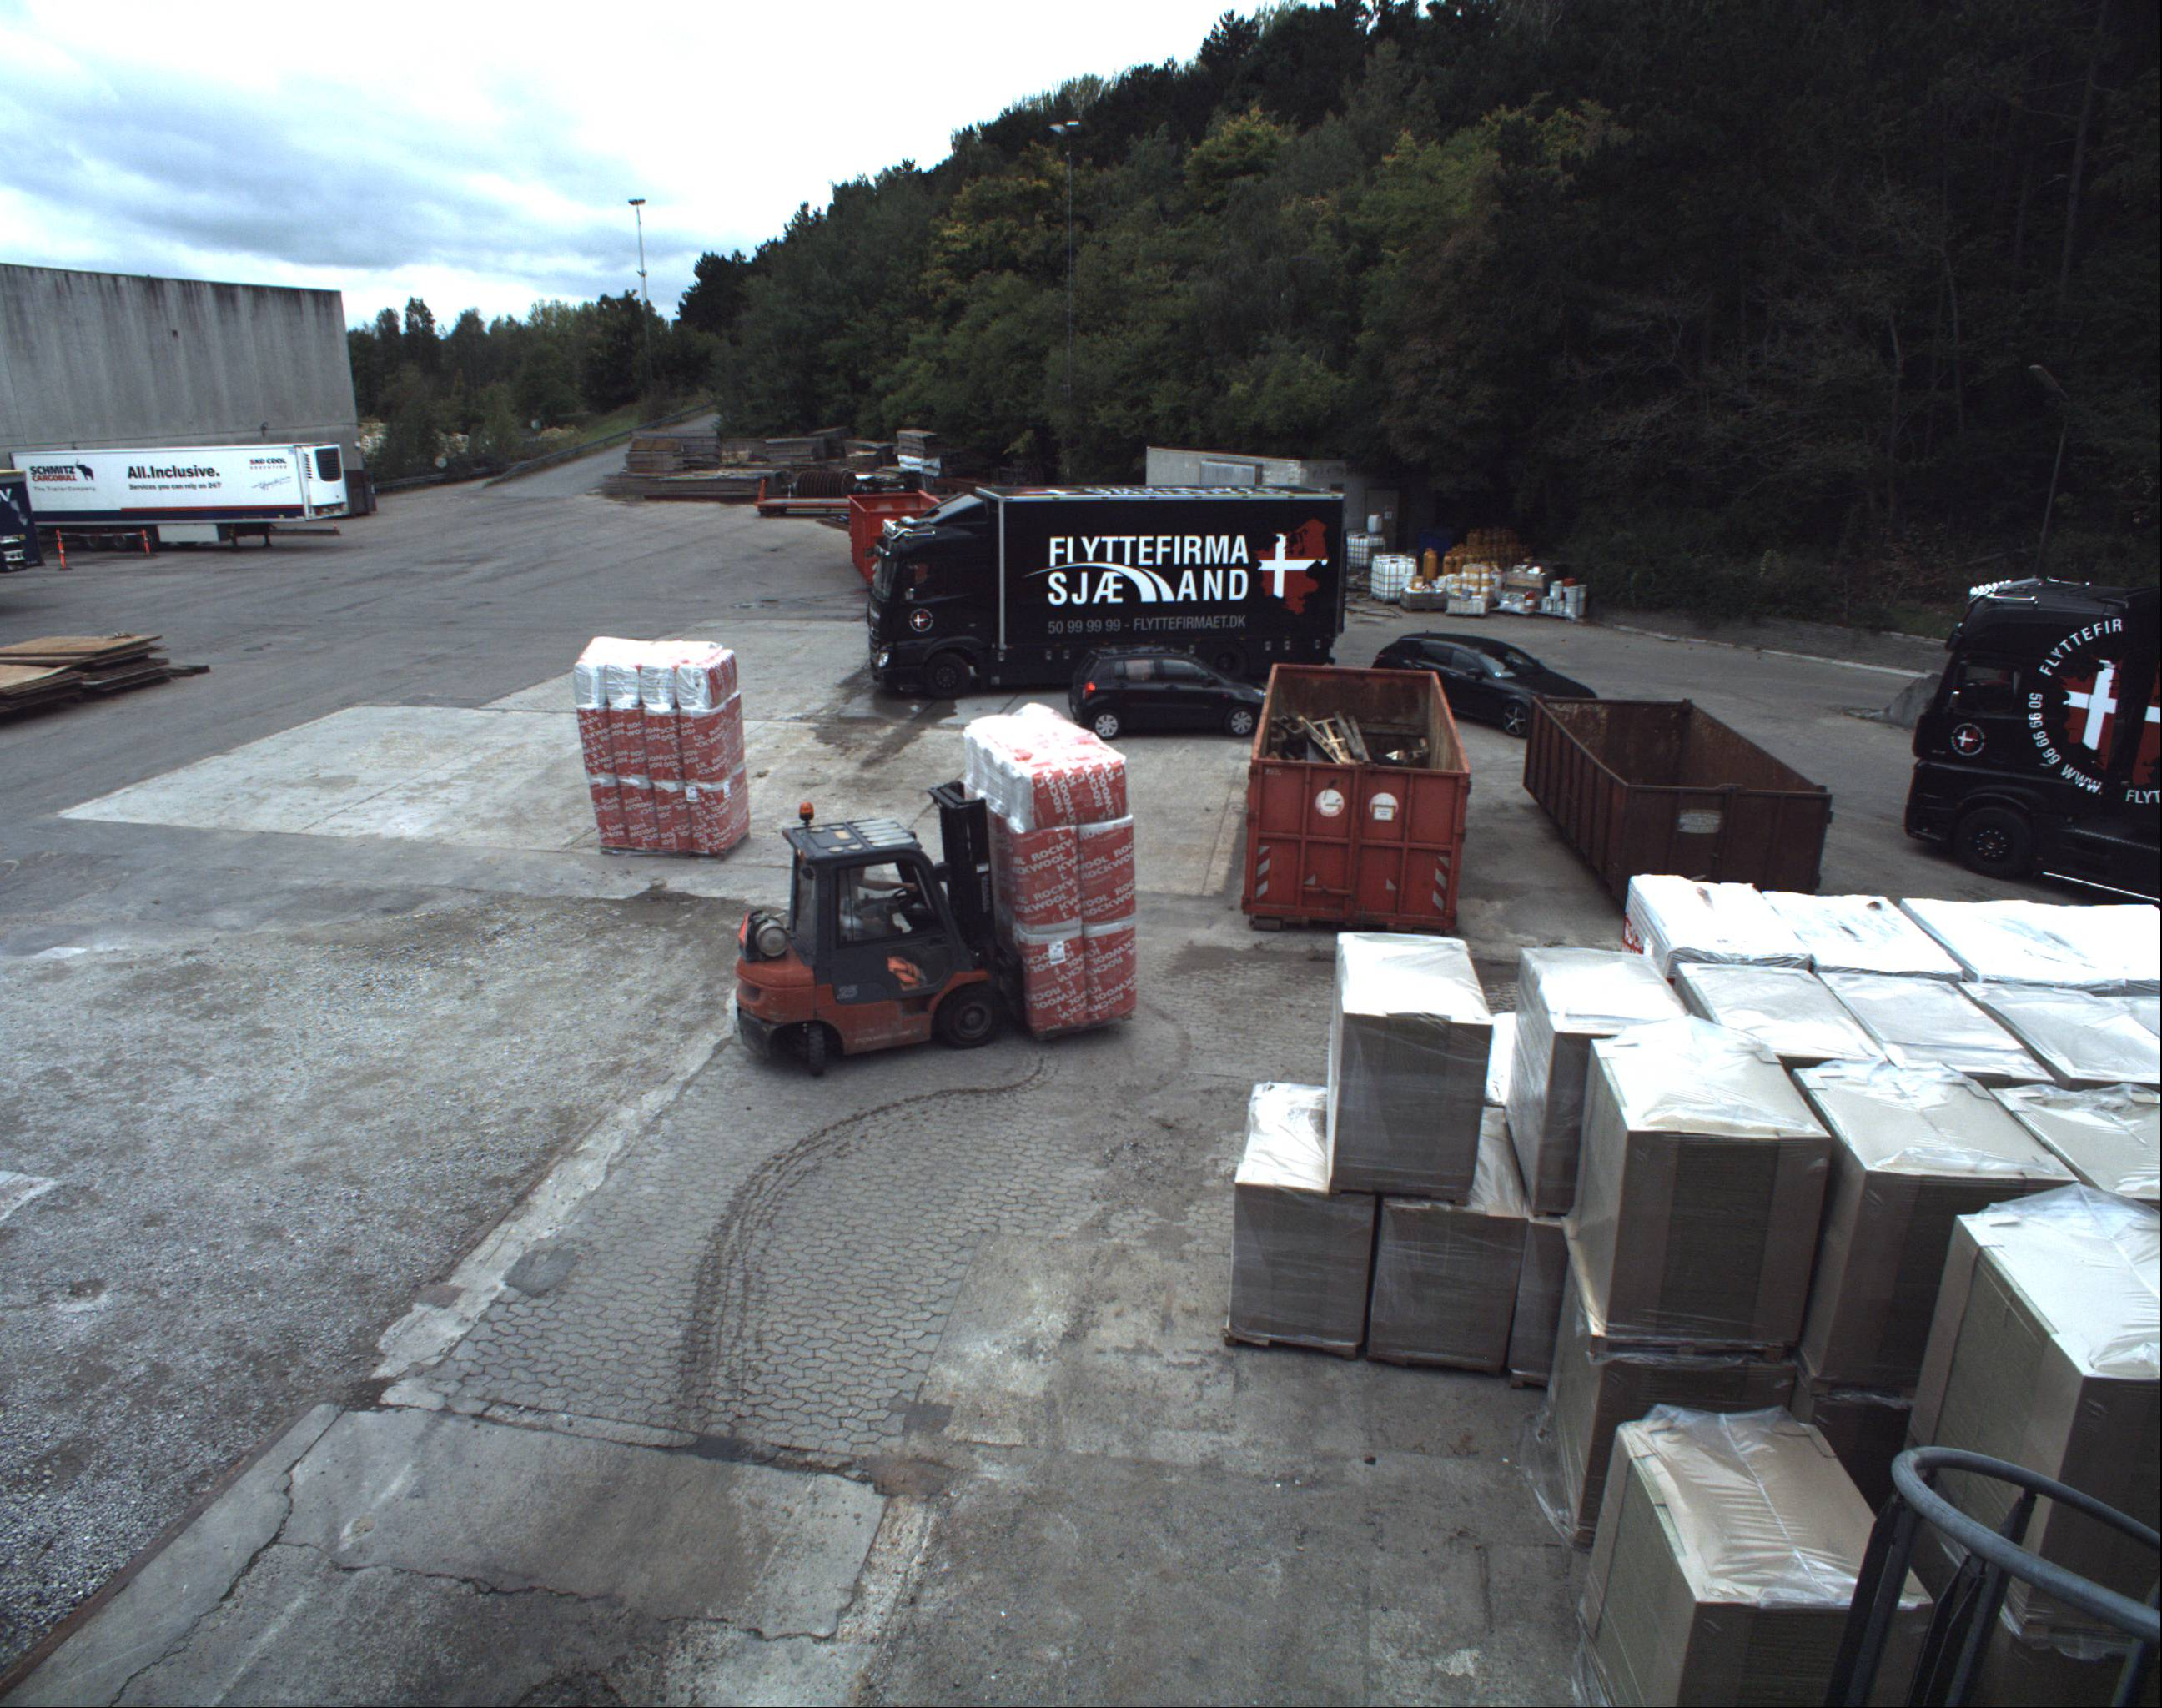rockwool_batts: (958, 706, 1132, 1034), (570, 635, 748, 846)
